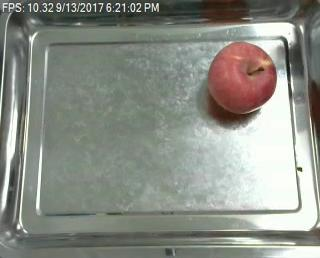apple: (207, 41, 278, 115)
